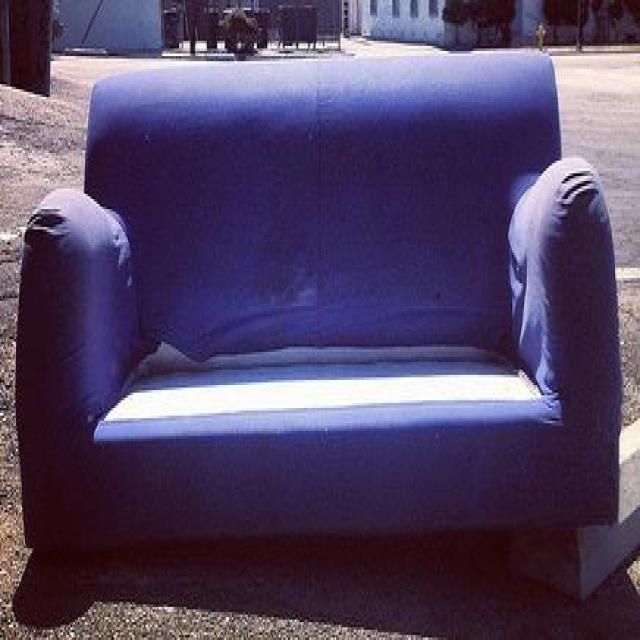sofa: (13, 45, 626, 583)
